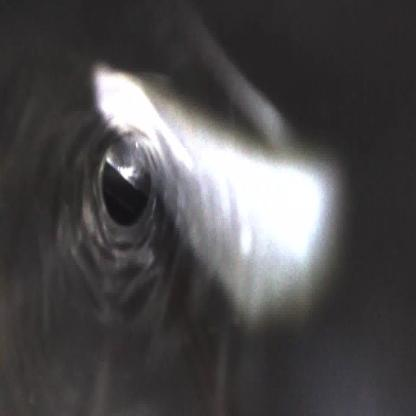Crack: (62, 86, 202, 315)
